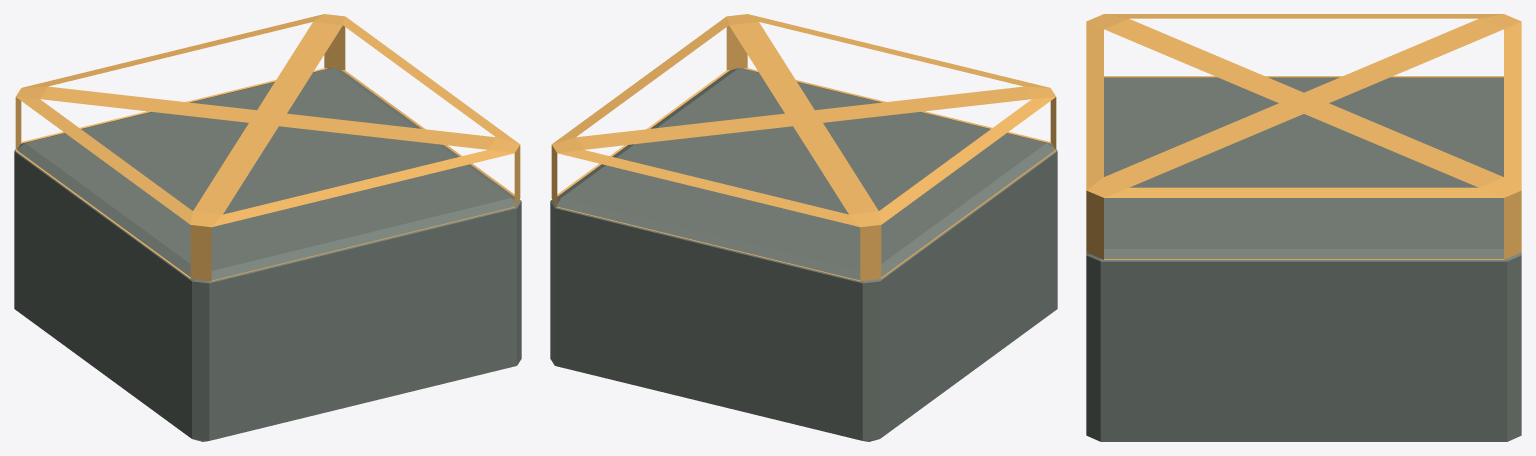
File: desert.fbx
3 views of the same model, side by side, from view 1: azimuth 30°, elevation 25°; view 2: azimuth 150°, elevation 25°; view 3: azimuth 270°, elevation 25° (orthographic). The views are drawn at different scales.
Parts seen in each view (by area): view 1: Cube, Cube.001; view 2: Cube, Cube.001; view 3: Cube, Cube.001.
Boxes of the visible parts, bbox=[...] form: Cube: bbox=[14, 68, 521, 441]; Cube.001: bbox=[15, 14, 520, 281]; Cube: bbox=[550, 68, 1057, 441]; Cube.001: bbox=[551, 14, 1056, 281]; Cube: bbox=[1086, 77, 1521, 441]; Cube.001: bbox=[1086, 14, 1521, 259].
Bounding box in the file's own units: 200 × 128 × 200.
